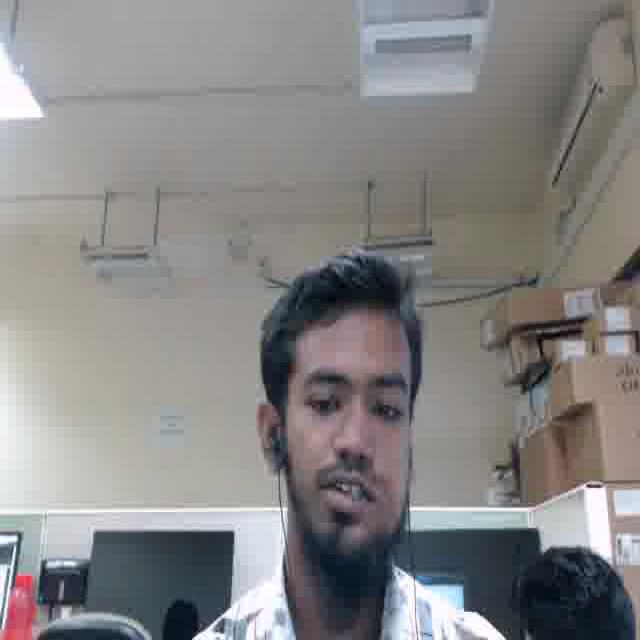Engaged: (284, 318, 416, 550)
